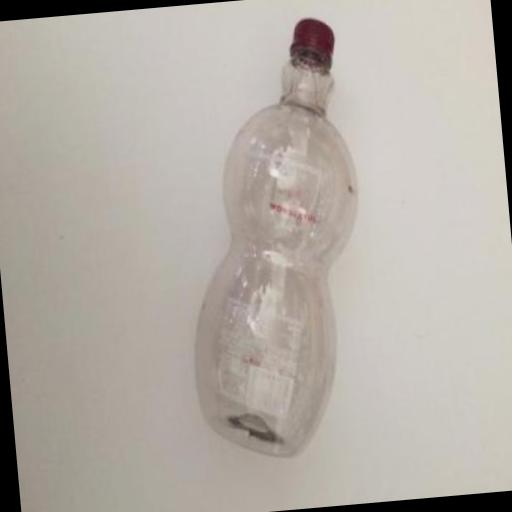plastic: (166, 13, 380, 460), (290, 15, 336, 69)
